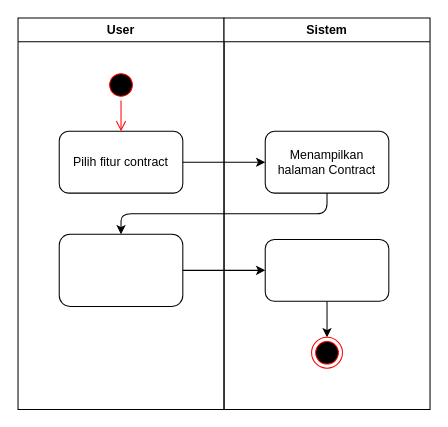
The diagram is 448 pixels wide and 427 high, and some of its shapes have lost their labels. The shapes that lost their labels are listed below. From the top down, each one's centre as x and y in pixels, then its label:
the point at 120,269: Tekan tombol setting (detail contract) pada salah satu data lumpsum contract
the point at 326,269: Menampilkan detail contract beserta status penagihannya
